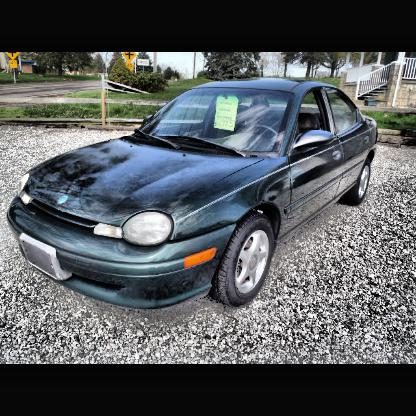Plymouth Neon Coupe 1999: (7, 81, 378, 310)
